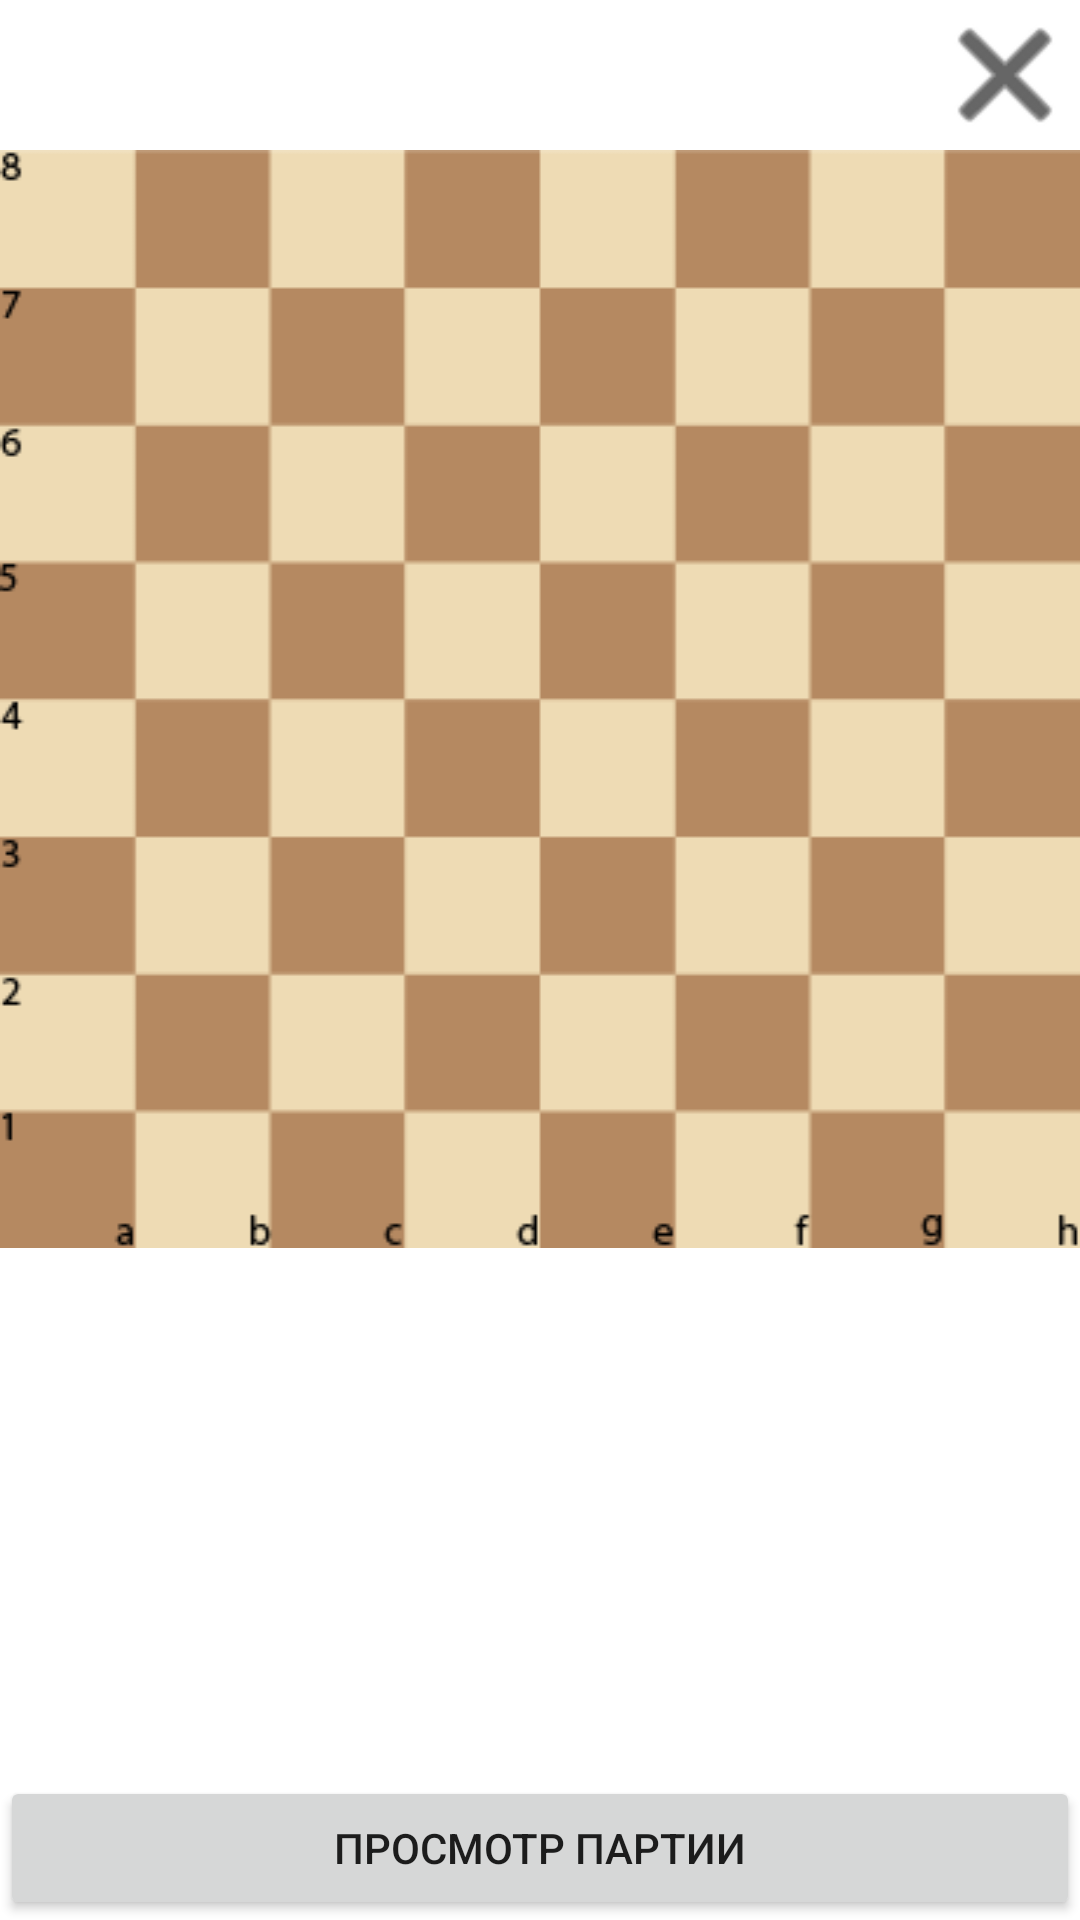

Named icons in this screenshot (1080w x 1920h) and their centers, (x,y):
close clear cancel: (1005,75)
